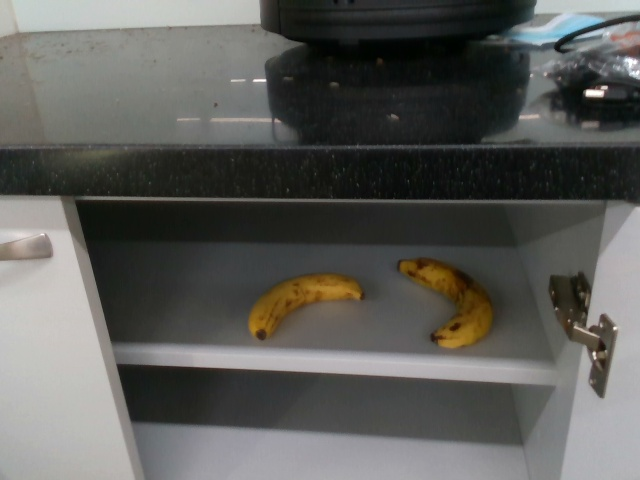banana: (394, 255, 495, 352), (249, 269, 365, 343)
